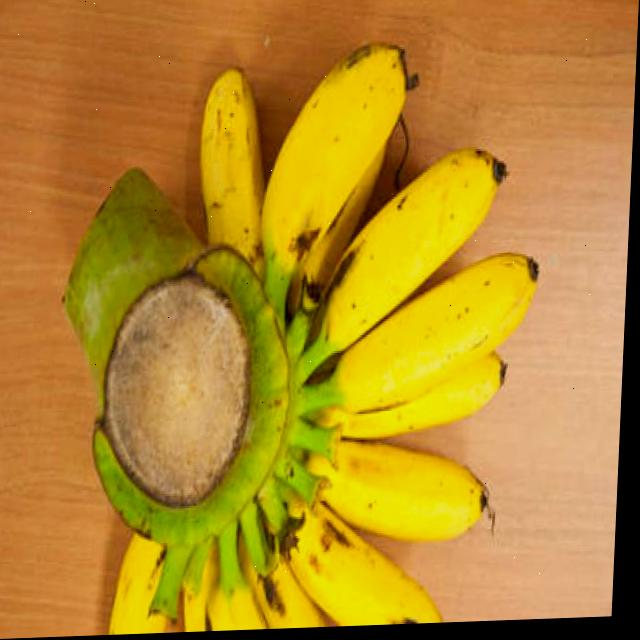banana: (40, 28, 556, 637)
